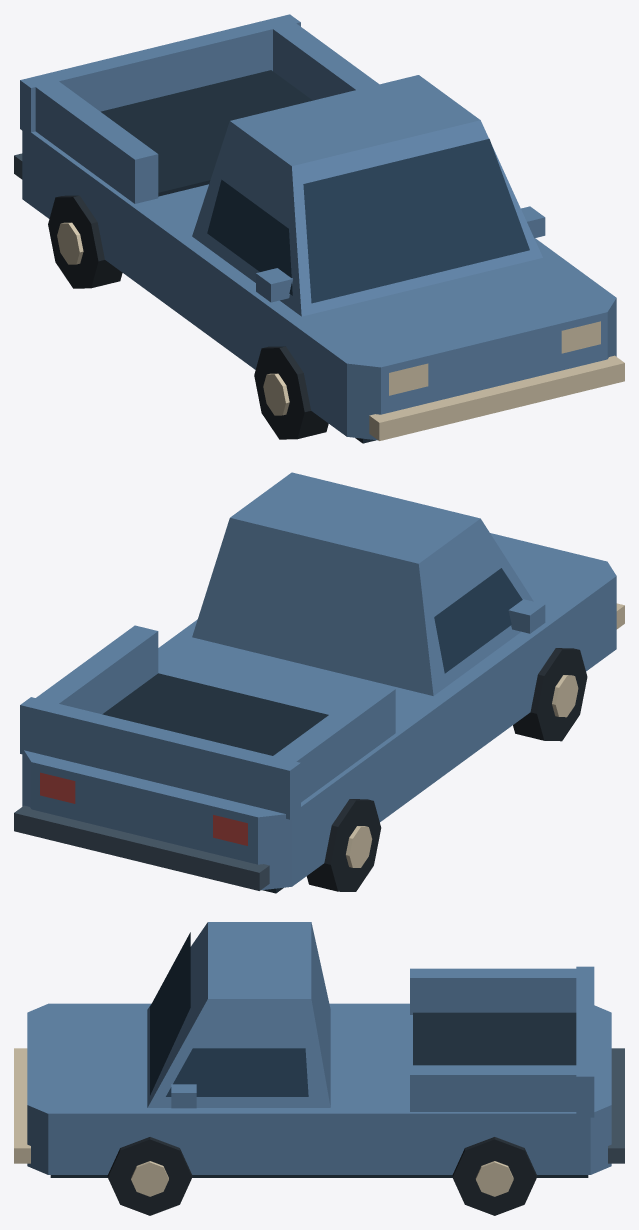
The model's file is car-pickup.glb.
3 views of the same model, one above another, from view 1: azimuth 30°, elevation 25°; view 2: azimuth 150°, elevation 25°; view 3: azimuth 270°, elevation 25° (orthographic). The views are drawn at different scales.
Visible parts, largest first — view 1: asset_root; view 2: asset_root; view 3: asset_root.
Part boxes in pixels (x1,y1,x2,y2): asset_root: [14, 14, 624, 443]; asset_root: [14, 472, 624, 893]; asset_root: [14, 922, 624, 1215].
Size of the model in its own units: 2.01 by 1.55 by 4.34.
